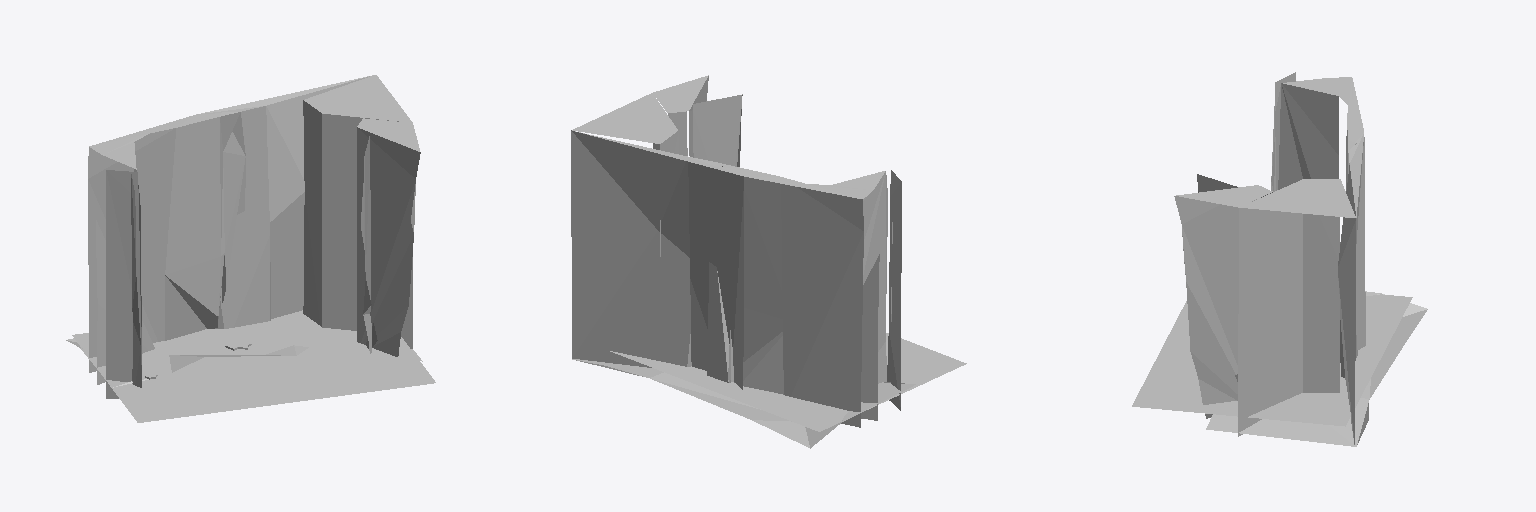
File: Glacier_bottom.obj
3 renders of one model, left to right at view 1: azimuth 30°, elevation 25°; view 2: azimuth 150°, elevation 25°; view 3: azimuth 270°, elevation 25°, orthographic.
Visible parts, largest first — view 1: VBSP_Object.model_0, VBSP_Object.model_1; view 2: VBSP_Object.model_0, VBSP_Object.model_1; view 3: VBSP_Object.model_0, VBSP_Object.model_1.
Boxes of the visible parts, x1=… form: VBSP_Object.model_0: x1=66, y1=75, x2=422, y2=398; VBSP_Object.model_1: x1=72, y1=310, x2=435, y2=422; VBSP_Object.model_0: x1=571, y1=75, x2=915, y2=448; VBSP_Object.model_1: x1=610, y1=333, x2=966, y2=431; VBSP_Object.model_0: x1=1174, y1=72, x2=1427, y2=446; VBSP_Object.model_1: x1=1132, y1=294, x2=1412, y2=426.
Size of the model in its own units: 113 by 78.21 by 91.49.